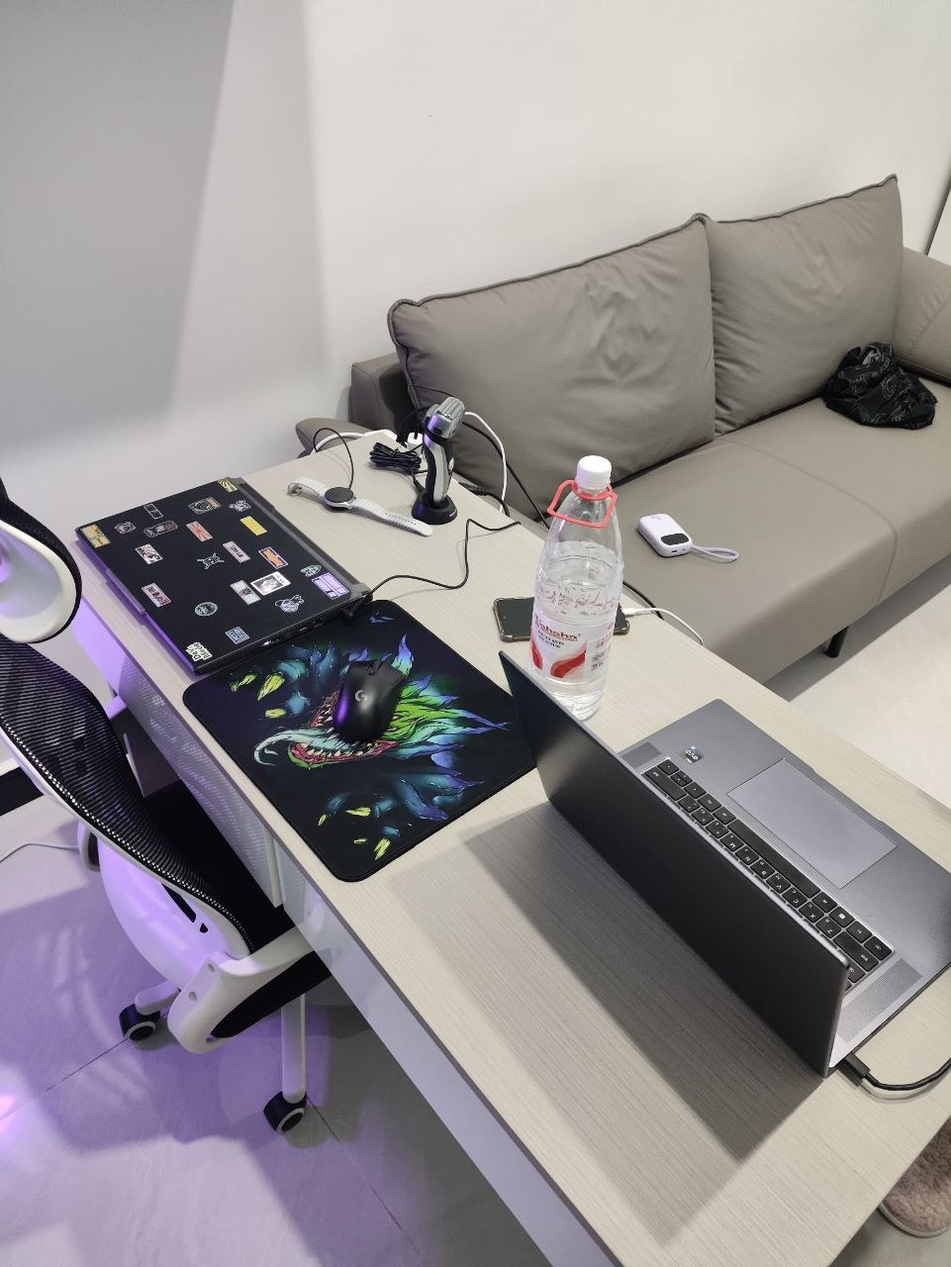cell phone: (494, 596, 630, 641)
laptop: (498, 649, 950, 1078), (75, 475, 374, 675)
